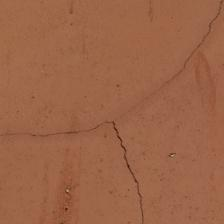Crack: (44, 0, 215, 145), (110, 8, 149, 113), (92, 43, 117, 161)
